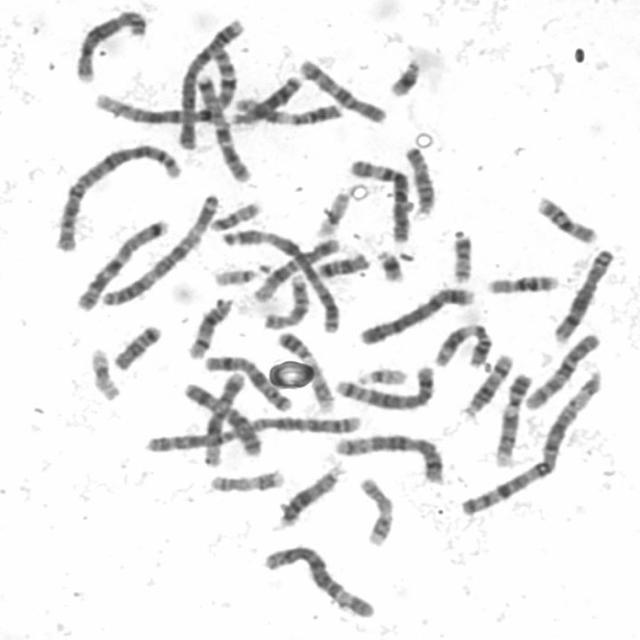A1: (452, 363, 605, 518), (91, 41, 243, 127)
A2: (48, 137, 185, 253), (136, 408, 367, 455)
A3: (91, 186, 222, 308), (216, 222, 343, 334)
B4: (170, 12, 248, 152), (353, 280, 478, 347)
B5: (328, 427, 447, 485), (330, 359, 438, 412)
C10: (519, 326, 603, 412), (292, 52, 389, 125)
C11: (226, 90, 344, 128), (428, 316, 495, 371)
C12: (248, 232, 344, 304), (197, 366, 248, 469)
C6: (256, 538, 378, 620), (344, 153, 414, 245)
C7: (70, 212, 172, 312), (190, 66, 253, 184)
C8: (548, 242, 616, 344), (69, 3, 150, 84)
C9: (270, 325, 336, 414), (488, 366, 534, 468)
D13: (270, 458, 348, 531), (223, 68, 305, 127)
D14: (457, 348, 516, 420), (182, 290, 236, 360)
D15: (256, 268, 314, 331), (399, 140, 438, 216)
E16: (530, 189, 600, 245), (481, 267, 561, 296)
E17: (353, 471, 397, 548), (204, 463, 287, 494)
E18: (107, 318, 164, 372), (311, 247, 372, 280)
F19: (83, 341, 123, 403), (310, 185, 352, 239)
F20: (206, 196, 264, 232), (446, 224, 475, 285)
G21: (382, 52, 424, 99), (371, 242, 407, 284)
G22: (208, 260, 272, 288), (350, 360, 411, 388)
X: (176, 375, 266, 460), (198, 348, 294, 414)
